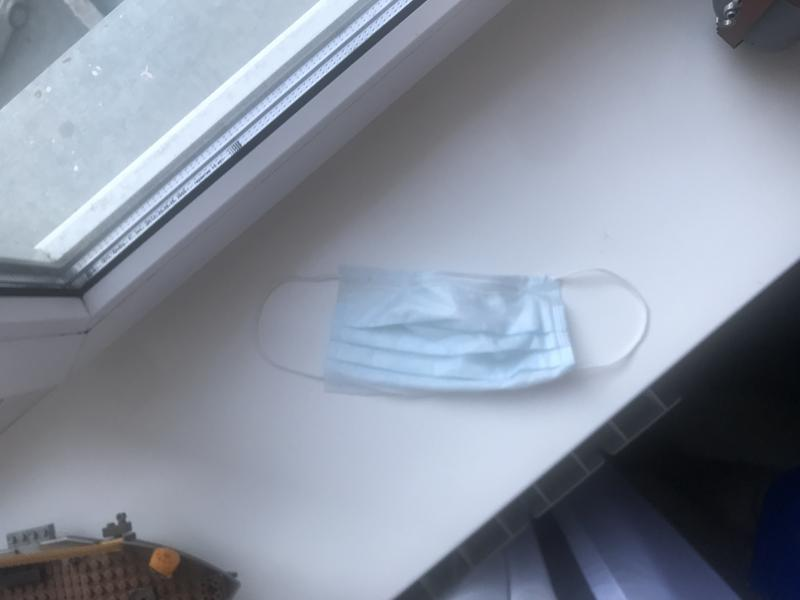medical_mask: (253, 268, 651, 393)
